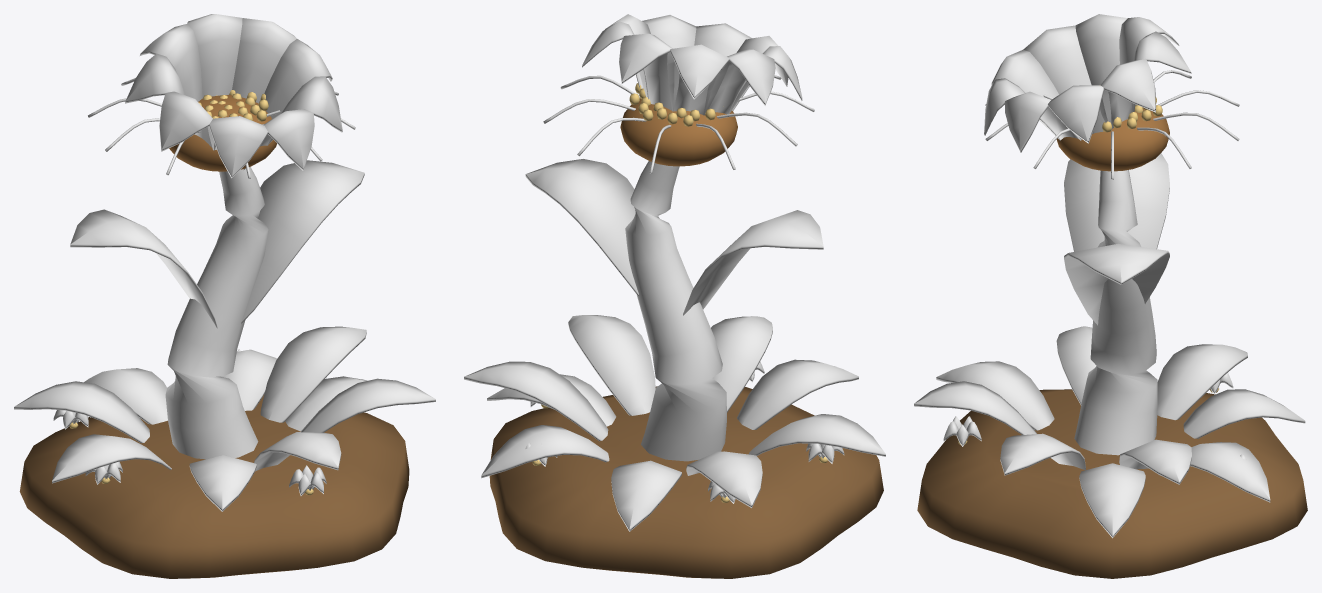
The model's file is blossom-1.fbx.
The picture shows the model from 3 angles, left to right: view 1: azimuth 30°, elevation 25°; view 2: azimuth 150°, elevation 25°; view 3: azimuth 270°, elevation 25°; orthographic projection. The views are drawn at different scales.
Visible parts, largest first — view 1: Base_Organic, Base_Leaf, FlowerHead_Petal, LivingStem, Petals_Leaf, Core_Organic, Base_Petal, Turret_Petal; view 2: Base_Organic, Base_Leaf, LivingStem, FlowerHead_Petal, Petals_Leaf, Core_Organic, Turret_Petal, Base_Petal; view 3: Base_Organic, Base_Leaf, FlowerHead_Petal, LivingStem, Petals_Leaf, Core_Organic, Turret_Petal, Base_Petal.
Part boxes in pixels (x1=…): Base_Organic: x1=19, y1=394, x2=409, y2=578; Base_Leaf: x1=14, y1=326, x2=435, y2=511; FlowerHead_Petal: x1=125, y1=14, x2=342, y2=178; LivingStem: x1=165, y1=167, x2=268, y2=459; Petals_Leaf: x1=70, y1=160, x2=364, y2=328; Core_Organic: x1=169, y1=90, x2=276, y2=171; Base_Petal: x1=53, y1=349, x2=326, y2=495; Turret_Petal: x1=88, y1=78, x2=355, y2=178; Base_Organic: x1=489, y1=386, x2=883, y2=578; Base_Leaf: x1=464, y1=315, x2=885, y2=531; LivingStem: x1=625, y1=161, x2=726, y2=461; FlowerHead_Petal: x1=582, y1=14, x2=802, y2=115; Petals_Leaf: x1=525, y1=159, x2=823, y2=315; Core_Organic: x1=620, y1=83, x2=737, y2=166; Turret_Petal: x1=543, y1=75, x2=814, y2=173; Base_Petal: x1=525, y1=361, x2=844, y2=503; Base_Organic: x1=917, y1=388, x2=1307, y2=578; Base_Leaf: x1=914, y1=326, x2=1305, y2=538; FlowerHead_Petal: x1=984, y1=14, x2=1191, y2=152; LivingStem: x1=1074, y1=170, x2=1157, y2=455; Petals_Leaf: x1=1064, y1=153, x2=1169, y2=325; Core_Organic: x1=1056, y1=85, x2=1169, y2=171; Turret_Petal: x1=985, y1=70, x2=1239, y2=179; Base_Petal: x1=943, y1=373, x2=1246, y2=459.
Bounding box in the file's own units: 97.28 × 121 × 88.94.
